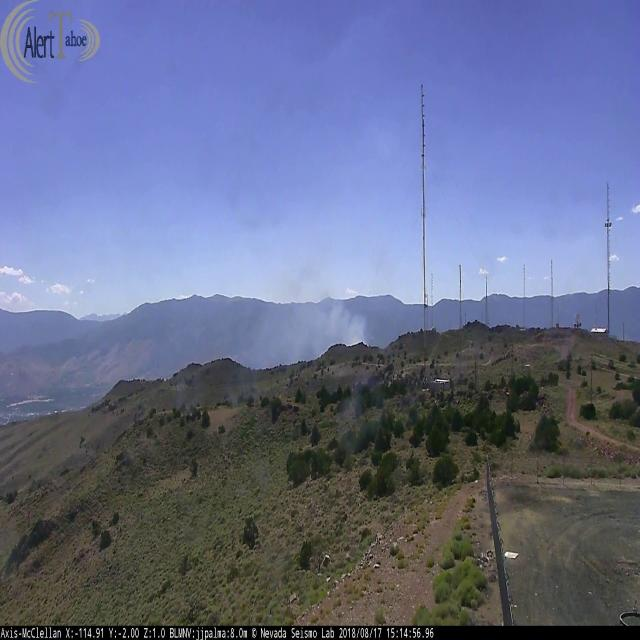smoke: (117, 5, 384, 370)
